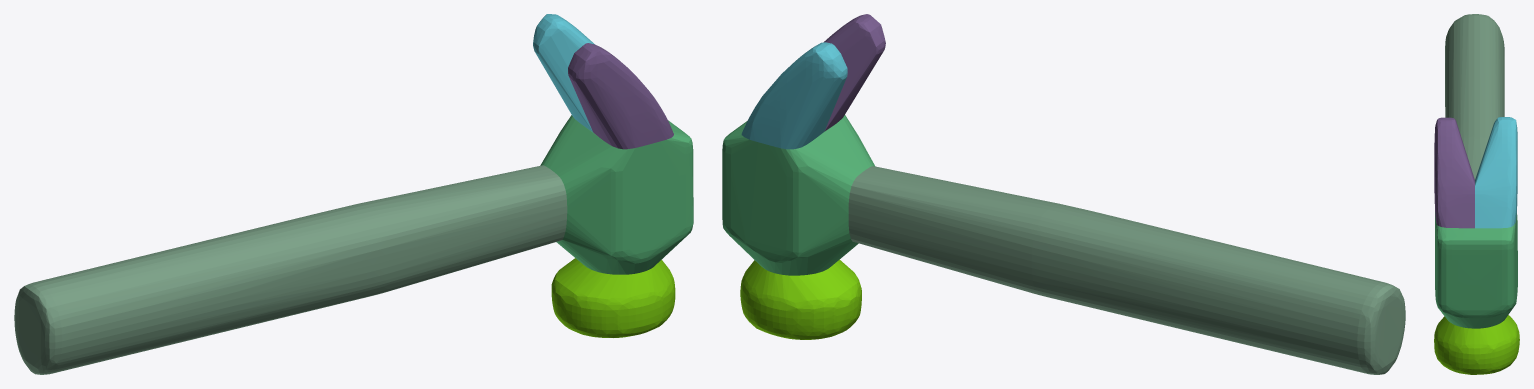
File: claw_hammer.obj
The picture shows the model from 3 angles, left to right: view 1: azimuth 30°, elevation 25°; view 2: azimuth 150°, elevation 25°; view 3: azimuth 270°, elevation 25°; orthographic projection. The views are drawn at different scales.
Parts seen in each view (by area): view 1: geometry_0, geometry_3, geometry_4, geometry_1, geometry_2; view 2: geometry_0, geometry_3, geometry_4, geometry_2, geometry_1; view 3: geometry_3, geometry_0, geometry_2, geometry_4, geometry_1.
Boxes of the visible parts, box(x1,y1,x2,y2) form: geometry_0: box(14, 165, 567, 374); geometry_3: box(540, 115, 693, 274); geometry_4: box(551, 258, 675, 337); geometry_1: box(568, 43, 673, 149); geometry_2: box(533, 14, 594, 132); geometry_0: box(848, 166, 1405, 374); geometry_3: box(722, 115, 875, 275); geometry_4: box(740, 259, 861, 339); geometry_2: box(741, 42, 847, 149); geometry_1: box(824, 14, 885, 131); geometry_3: box(1435, 212, 1517, 328); geometry_0: box(1445, 14, 1504, 179); geometry_2: box(1475, 117, 1517, 228); geometry_4: box(1434, 315, 1519, 374); geometry_1: box(1434, 117, 1474, 228).
Bounding box in the file's own units: 0.1971 × 0.0874 × 0.03.
